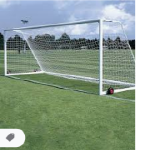goals: (2, 17, 135, 97)
